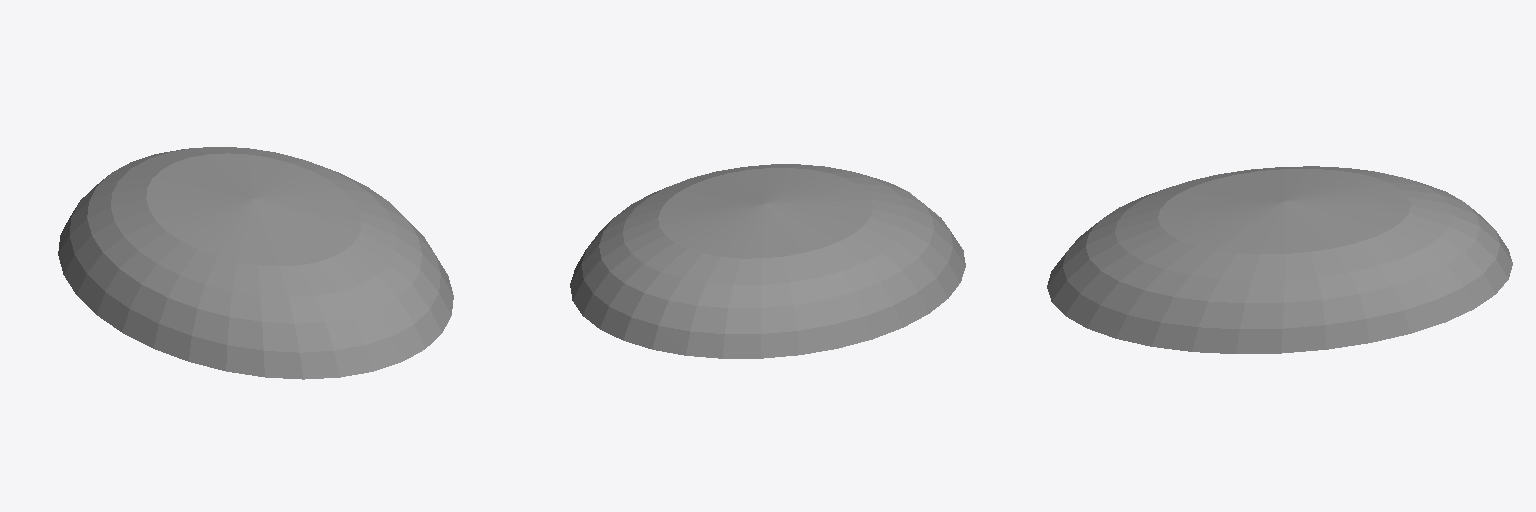
File: clouds_fixed_2.obj
3 renders of one model, left to right at view 1: azimuth 30°, elevation 25°; view 2: azimuth 150°, elevation 25°; view 3: azimuth 270°, elevation 25°, orthographic.
Parts seen in each view (by area): view 1: g_frame_15; view 2: g_frame_15; view 3: g_frame_15.
Part boxes in pixels (bbox=[...]): g_frame_15: bbox=[58, 147, 453, 379]; g_frame_15: bbox=[570, 164, 965, 358]; g_frame_15: bbox=[1047, 166, 1512, 353].
Size of the model in its own units: 2352 by 766 by 2964.